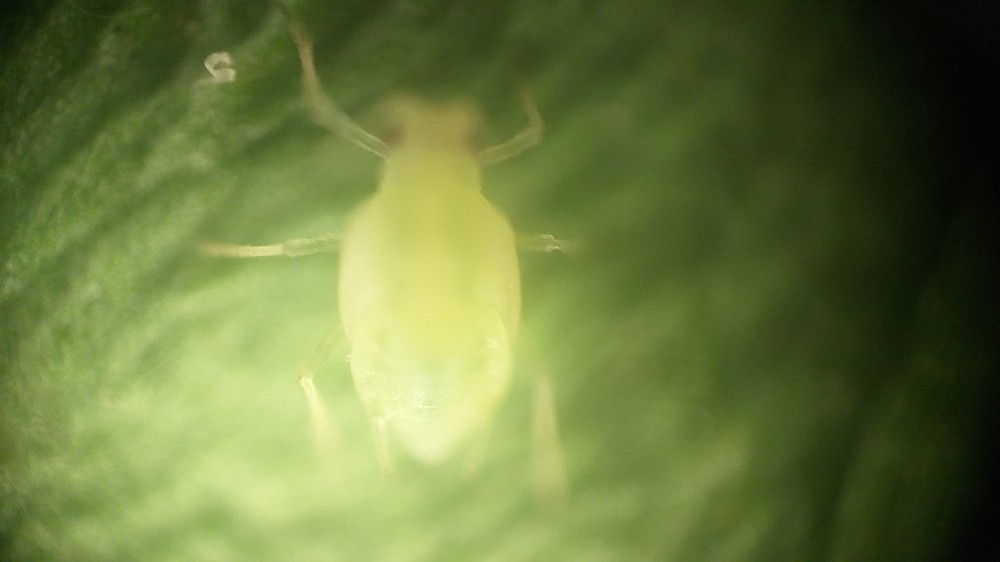Pulgon: (228, 39, 628, 544)
